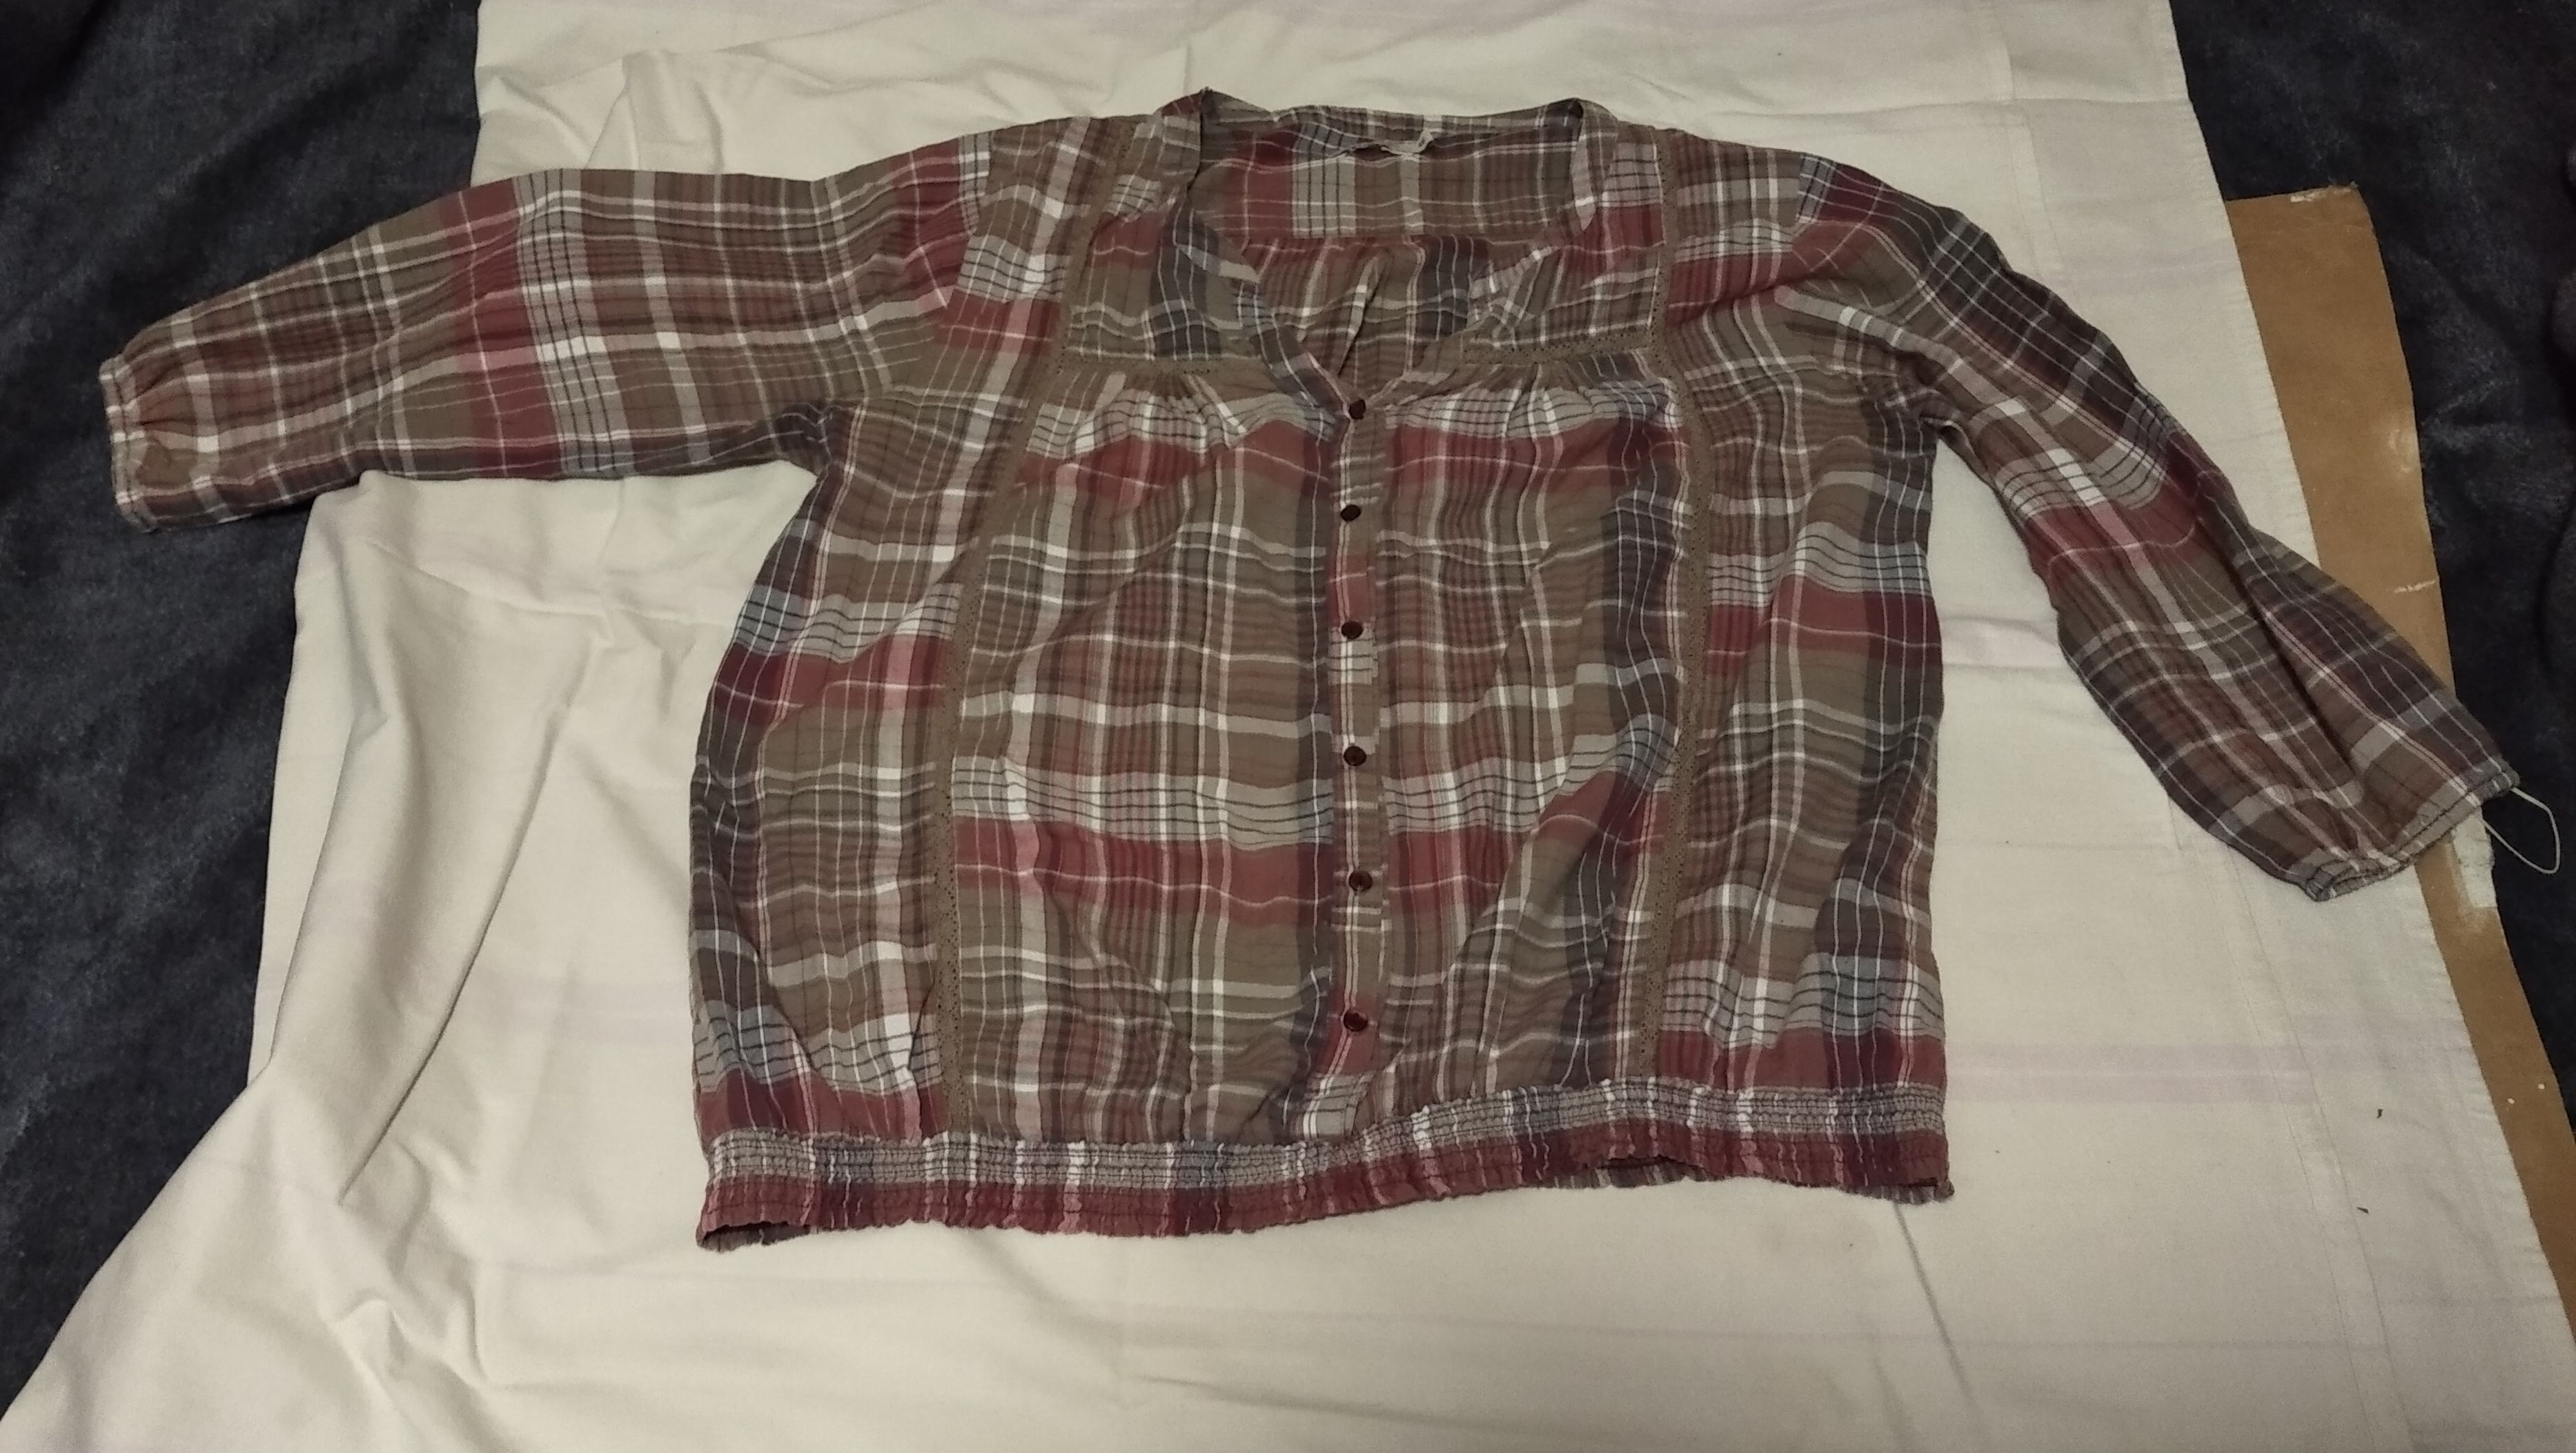clothes: (81, 96, 2516, 1225)
